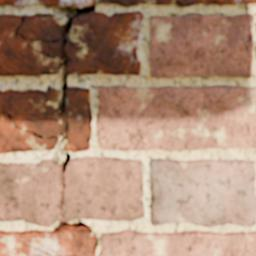brick: (98, 87, 255, 150), (152, 160, 255, 227), (151, 13, 253, 77), (102, 231, 255, 255), (0, 230, 93, 255), (0, 0, 95, 7), (178, 0, 255, 6), (100, 0, 173, 6)
broken_brick: (63, 156, 145, 221), (66, 10, 143, 76), (0, 159, 60, 228), (0, 12, 58, 77), (0, 115, 55, 154), (66, 86, 94, 153), (0, 88, 58, 118)
crack: (0, 2, 98, 255), (23, 243, 51, 255), (166, 0, 186, 7)
